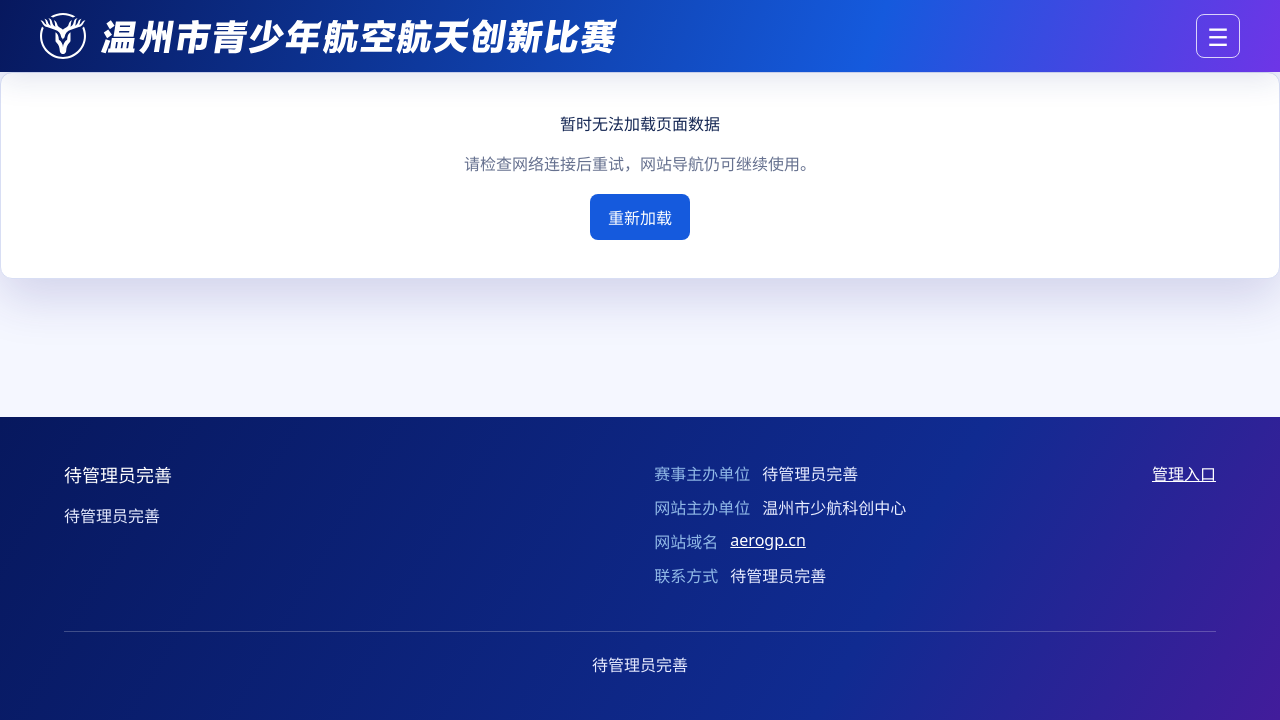
public site async states › shows loading, a retryable error and then an empty state without blanking the shell
The width and height of the screenshot is (1280, 720).
Expected: the message named "正在加载" is shown, [0,72,1279,279]
Expected: the message shows "暂时无法加载页面数据", [560,113,720,135]
Click the button "重新加载". click: (640, 217)
box: [590,194,690,240]
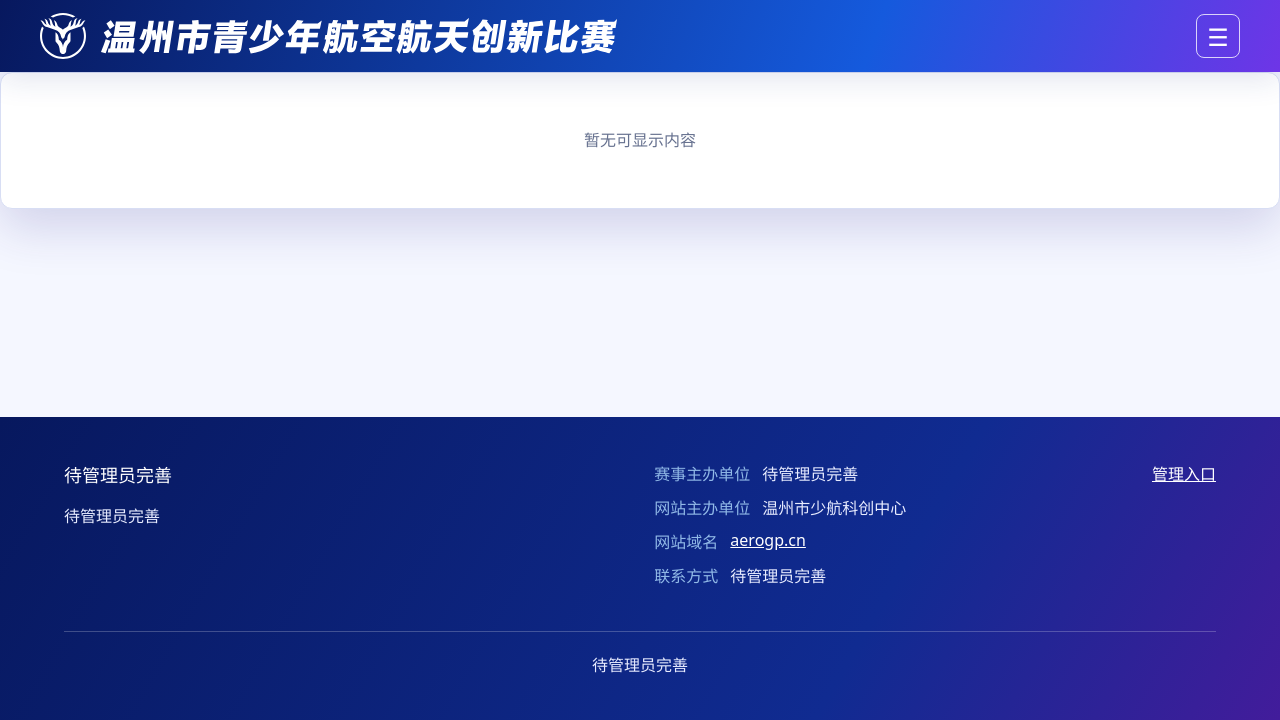
Expected: the text "暂无可显示内容" is shown, [584,129,696,151]
